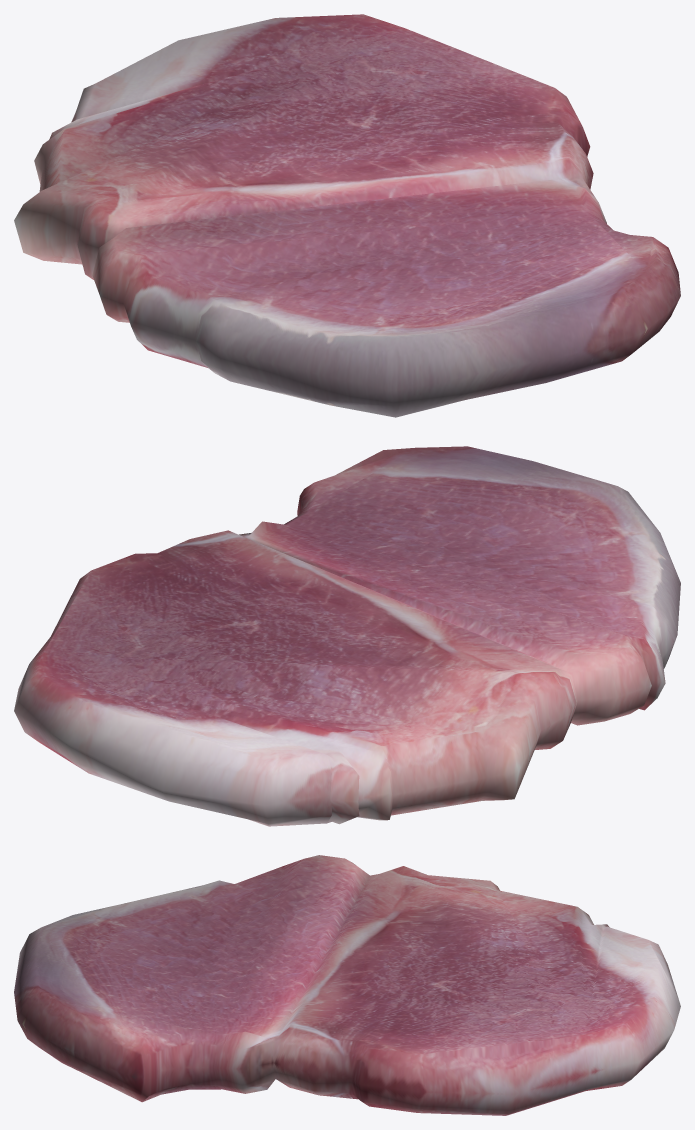
Rendered from RawMeat.fbx.
3 views of the same model, one above another, from view 1: azimuth 30°, elevation 25°; view 2: azimuth 150°, elevation 25°; view 3: azimuth 270°, elevation 25° (orthographic). The views are drawn at different scales.
Parts seen in each view (by area): view 1: RawMeat; view 2: RawMeat; view 3: RawMeat.
Boxes of the visible parts, x1,y1,x2,y2 form: RawMeat: (14, 14, 680, 417); RawMeat: (14, 446, 680, 826); RawMeat: (14, 855, 680, 1115).
Bounding box in the file's own units: 246 × 41.14 × 317.
Materials: 1 (1 with a texture image).
